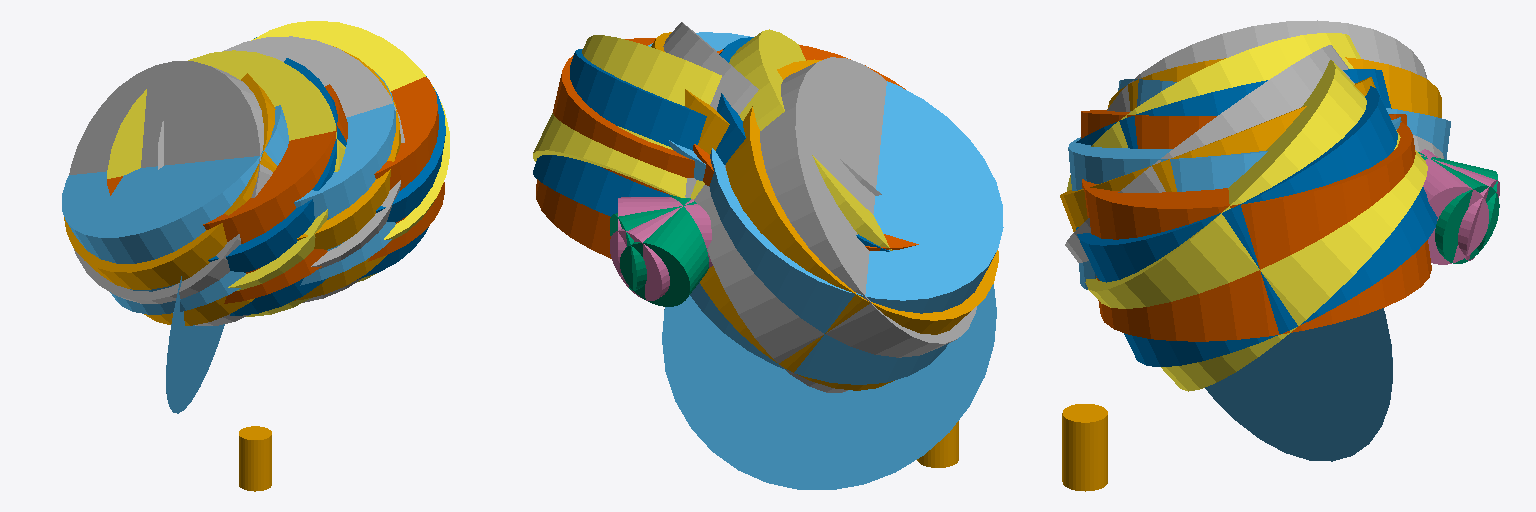
robot.urdf — pepe:
<robot name="pepe">
	<link name="0">
		<visual>
			<geometry>
				<cylinder length="0.35940935990721423" radius="0.10762790799951505"/>
			</geometry>
		</visual>
		<collision>
			<geometry>
				<cylinder length="0.35940935990721423" radius="0.10762790799951505"/>
			</geometry>
		</collision>
		<inertial>
			<mass value="0.013079437091548709"/>
			<inertia ixx="0.03" iyy="0.03" izz="0.03" ixy="0" ixz="0" iyx="0"/>
		</inertial>
	</link>
	<link name="11">
		<visual>
			<geometry>
				<cylinder length="0.00014309724393646306" radius="0.878015169482812"/>
			</geometry>
		</visual>
		<collision>
			<geometry>
				<cylinder length="0.00014309724393646306" radius="0.878015169482812"/>
			</geometry>
		</collision>
		<inertial>
			<mass value="0.000346565382932485"/>
			<inertia ixx="0.03" iyy="0.03" izz="0.03" ixy="0" ixz="0" iyx="0"/>
		</inertial>
	</link>
	<link name="22">
		<visual>
			<geometry>
				<cylinder length="0.6698241132036055" radius="0.20281904790217475"/>
			</geometry>
		</visual>
		<collision>
			<geometry>
				<cylinder length="0.6698241132036055" radius="0.20281904790217475"/>
			</geometry>
		</collision>
		<inertial>
			<mass value="0.08656216894796107"/>
			<inertia ixx="0.03" iyy="0.03" izz="0.03" ixy="0" ixz="0" iyx="0"/>
		</inertial>
	</link>
	<link name="33">
		<visual>
			<geometry>
				<cylinder length="0.6594143880653701" radius="0.7924739066722428"/>
			</geometry>
		</visual>
		<collision>
			<geometry>
				<cylinder length="0.6594143880653701" radius="0.7924739066722428"/>
			</geometry>
		</collision>
		<inertial>
			<mass value="1.3010028094564627"/>
			<inertia ixx="0.03" iyy="0.03" izz="0.03" ixy="0" ixz="0" iyx="0"/>
		</inertial>
	</link>
	<link name="34">
		<visual>
			<geometry>
				<cylinder length="0.6594143880653701" radius="0.7924739066722428"/>
			</geometry>
		</visual>
		<collision>
			<geometry>
				<cylinder length="0.6594143880653701" radius="0.7924739066722428"/>
			</geometry>
		</collision>
		<inertial>
			<mass value="1.3010028094564627"/>
			<inertia ixx="0.03" iyy="0.03" izz="0.03" ixy="0" ixz="0" iyx="0"/>
		</inertial>
	</link>
	<link name="35">
		<visual>
			<geometry>
				<cylinder length="0.6594143880653701" radius="0.7924739066722428"/>
			</geometry>
		</visual>
		<collision>
			<geometry>
				<cylinder length="0.6594143880653701" radius="0.7924739066722428"/>
			</geometry>
		</collision>
		<inertial>
			<mass value="1.3010028094564627"/>
			<inertia ixx="0.03" iyy="0.03" izz="0.03" ixy="0" ixz="0" iyx="0"/>
		</inertial>
	</link>
	<link name="26">
		<visual>
			<geometry>
				<cylinder length="0.6698241132036055" radius="0.20281904790217475"/>
			</geometry>
		</visual>
		<collision>
			<geometry>
				<cylinder length="0.6698241132036055" radius="0.20281904790217475"/>
			</geometry>
		</collision>
		<inertial>
			<mass value="0.08656216894796107"/>
			<inertia ixx="0.03" iyy="0.03" izz="0.03" ixy="0" ixz="0" iyx="0"/>
		</inertial>
	</link>
	<link name="37">
		<visual>
			<geometry>
				<cylinder length="0.6594143880653701" radius="0.7924739066722428"/>
			</geometry>
		</visual>
		<collision>
			<geometry>
				<cylinder length="0.6594143880653701" radius="0.7924739066722428"/>
			</geometry>
		</collision>
		<inertial>
			<mass value="1.3010028094564627"/>
			<inertia ixx="0.03" iyy="0.03" izz="0.03" ixy="0" ixz="0" iyx="0"/>
		</inertial>
	</link>
	<link name="38">
		<visual>
			<geometry>
				<cylinder length="0.6594143880653701" radius="0.7924739066722428"/>
			</geometry>
		</visual>
		<collision>
			<geometry>
				<cylinder length="0.6594143880653701" radius="0.7924739066722428"/>
			</geometry>
		</collision>
		<inertial>
			<mass value="1.3010028094564627"/>
			<inertia ixx="0.03" iyy="0.03" izz="0.03" ixy="0" ixz="0" iyx="0"/>
		</inertial>
	</link>
	<link name="39">
		<visual>
			<geometry>
				<cylinder length="0.6594143880653701" radius="0.7924739066722428"/>
			</geometry>
		</visual>
		<collision>
			<geometry>
				<cylinder length="0.6594143880653701" radius="0.7924739066722428"/>
			</geometry>
		</collision>
		<inertial>
			<mass value="1.3010028094564627"/>
			<inertia ixx="0.03" iyy="0.03" izz="0.03" ixy="0" ixz="0" iyx="0"/>
		</inertial>
	</link>
	<link name="210">
		<visual>
			<geometry>
				<cylinder length="0.6698241132036055" radius="0.20281904790217475"/>
			</geometry>
		</visual>
		<collision>
			<geometry>
				<cylinder length="0.6698241132036055" radius="0.20281904790217475"/>
			</geometry>
		</collision>
		<inertial>
			<mass value="0.08656216894796107"/>
			<inertia ixx="0.03" iyy="0.03" izz="0.03" ixy="0" ixz="0" iyx="0"/>
		</inertial>
	</link>
	<link name="311">
		<visual>
			<geometry>
				<cylinder length="0.6594143880653701" radius="0.7924739066722428"/>
			</geometry>
		</visual>
		<collision>
			<geometry>
				<cylinder length="0.6594143880653701" radius="0.7924739066722428"/>
			</geometry>
		</collision>
		<inertial>
			<mass value="1.3010028094564627"/>
			<inertia ixx="0.03" iyy="0.03" izz="0.03" ixy="0" ixz="0" iyx="0"/>
		</inertial>
	</link>
	<link name="312">
		<visual>
			<geometry>
				<cylinder length="0.6594143880653701" radius="0.7924739066722428"/>
			</geometry>
		</visual>
		<collision>
			<geometry>
				<cylinder length="0.6594143880653701" radius="0.7924739066722428"/>
			</geometry>
		</collision>
		<inertial>
			<mass value="1.3010028094564627"/>
			<inertia ixx="0.03" iyy="0.03" izz="0.03" ixy="0" ixz="0" iyx="0"/>
		</inertial>
	</link>
	<link name="313">
		<visual>
			<geometry>
				<cylinder length="0.6594143880653701" radius="0.7924739066722428"/>
			</geometry>
		</visual>
		<collision>
			<geometry>
				<cylinder length="0.6594143880653701" radius="0.7924739066722428"/>
			</geometry>
		</collision>
		<inertial>
			<mass value="1.3010028094564627"/>
			<inertia ixx="0.03" iyy="0.03" izz="0.03" ixy="0" ixz="0" iyx="0"/>
		</inertial>
	</link>
	<link name="214">
		<visual>
			<geometry>
				<cylinder length="0.6698241132036055" radius="0.20281904790217475"/>
			</geometry>
		</visual>
		<collision>
			<geometry>
				<cylinder length="0.6698241132036055" radius="0.20281904790217475"/>
			</geometry>
		</collision>
		<inertial>
			<mass value="0.08656216894796107"/>
			<inertia ixx="0.03" iyy="0.03" izz="0.03" ixy="0" ixz="0" iyx="0"/>
		</inertial>
	</link>
	<link name="315">
		<visual>
			<geometry>
				<cylinder length="0.6594143880653701" radius="0.7924739066722428"/>
			</geometry>
		</visual>
		<collision>
			<geometry>
				<cylinder length="0.6594143880653701" radius="0.7924739066722428"/>
			</geometry>
		</collision>
		<inertial>
			<mass value="1.3010028094564627"/>
			<inertia ixx="0.03" iyy="0.03" izz="0.03" ixy="0" ixz="0" iyx="0"/>
		</inertial>
	</link>
	<link name="316">
		<visual>
			<geometry>
				<cylinder length="0.6594143880653701" radius="0.7924739066722428"/>
			</geometry>
		</visual>
		<collision>
			<geometry>
				<cylinder length="0.6594143880653701" radius="0.7924739066722428"/>
			</geometry>
		</collision>
		<inertial>
			<mass value="1.3010028094564627"/>
			<inertia ixx="0.03" iyy="0.03" izz="0.03" ixy="0" ixz="0" iyx="0"/>
		</inertial>
	</link>
	<link name="317">
		<visual>
			<geometry>
				<cylinder length="0.6594143880653701" radius="0.7924739066722428"/>
			</geometry>
		</visual>
		<collision>
			<geometry>
				<cylinder length="0.6594143880653701" radius="0.7924739066722428"/>
			</geometry>
		</collision>
		<inertial>
			<mass value="1.3010028094564627"/>
			<inertia ixx="0.03" iyy="0.03" izz="0.03" ixy="0" ixz="0" iyx="0"/>
		</inertial>
	</link>
	<joint name="11_to_0" type="revolute">
		<parent link="0"/>
		<child link="11"/>
		<axis xyz="1 0 0"/>
		<limit effort="1" upper="-3.1415" lower="3.1415" velocity="1"/>
		<origin rpy="0.14649725603420974 4.846653697982699 5.321823417325937" xyz="0.14857603399565733 0.850922854525532 0.8784038689011624"/>
	</joint>
	<joint name="22_to_11" type="revolute">
		<parent link="11"/>
		<child link="22"/>
		<axis xyz="0 0 1"/>
		<limit effort="1" upper="-3.1415" lower="3.1415" velocity="1"/>
		<origin rpy="0.7445599795989941 2.753265867417977 0.13256535444230305" xyz="0.6462597085189629 0.8247703460954684 0.3225897180783439"/>
	</joint>
	<joint name="33_to_22" type="revolute">
		<parent link="22"/>
		<child link="33"/>
		<axis xyz="0 0 1"/>
		<limit effort="1" upper="-3.1415" lower="3.1415" velocity="1"/>
		<origin rpy="5.69284500720614 6.231285609868876 1.6356365506562816" xyz="0.21244740337731205 0.30963795507434566 0.7532611592364375"/>
	</joint>
	<joint name="34_to_22" type="revolute">
		<parent link="22"/>
		<child link="34"/>
		<axis xyz="0 0 1"/>
		<limit effort="1" upper="-3.1415" lower="3.1415" velocity="1"/>
		<origin rpy="8.53926751080921 6.231285609868876 1.6356365506562816" xyz="0.21244740337731205 0.30963795507434566 0.7532611592364375"/>
	</joint>
	<joint name="35_to_22" type="revolute">
		<parent link="22"/>
		<child link="35"/>
		<axis xyz="0 0 1"/>
		<limit effort="1" upper="-3.1415" lower="3.1415" velocity="1"/>
		<origin rpy="11.38569001441228 6.231285609868876 1.6356365506562816" xyz="0.21244740337731205 0.30963795507434566 0.7532611592364375"/>
	</joint>
	<joint name="26_to_11" type="revolute">
		<parent link="11"/>
		<child link="26"/>
		<axis xyz="0 0 1"/>
		<limit effort="1" upper="-3.1415" lower="3.1415" velocity="1"/>
		<origin rpy="1.1168399693984912 2.753265867417977 0.13256535444230305" xyz="0.6462597085189629 0.8247703460954684 0.3225897180783439"/>
	</joint>
	<joint name="37_to_26" type="revolute">
		<parent link="26"/>
		<child link="37"/>
		<axis xyz="0 0 1"/>
		<limit effort="1" upper="-3.1415" lower="3.1415" velocity="1"/>
		<origin rpy="5.69284500720614 6.231285609868876 1.6356365506562816" xyz="0.21244740337731205 0.30963795507434566 0.7532611592364375"/>
	</joint>
	<joint name="38_to_26" type="revolute">
		<parent link="26"/>
		<child link="38"/>
		<axis xyz="0 0 1"/>
		<limit effort="1" upper="-3.1415" lower="3.1415" velocity="1"/>
		<origin rpy="8.53926751080921 6.231285609868876 1.6356365506562816" xyz="0.21244740337731205 0.30963795507434566 0.7532611592364375"/>
	</joint>
	<joint name="39_to_26" type="revolute">
		<parent link="26"/>
		<child link="39"/>
		<axis xyz="0 0 1"/>
		<limit effort="1" upper="-3.1415" lower="3.1415" velocity="1"/>
		<origin rpy="11.38569001441228 6.231285609868876 1.6356365506562816" xyz="0.21244740337731205 0.30963795507434566 0.7532611592364375"/>
	</joint>
	<joint name="210_to_11" type="revolute">
		<parent link="11"/>
		<child link="210"/>
		<axis xyz="0 0 1"/>
		<limit effort="1" upper="-3.1415" lower="3.1415" velocity="1"/>
		<origin rpy="1.4891199591979882 2.753265867417977 0.13256535444230305" xyz="0.6462597085189629 0.8247703460954684 0.3225897180783439"/>
	</joint>
	<joint name="311_to_210" type="revolute">
		<parent link="210"/>
		<child link="311"/>
		<axis xyz="0 0 1"/>
		<limit effort="1" upper="-3.1415" lower="3.1415" velocity="1"/>
		<origin rpy="5.69284500720614 6.231285609868876 1.6356365506562816" xyz="0.21244740337731205 0.30963795507434566 0.7532611592364375"/>
	</joint>
	<joint name="312_to_210" type="revolute">
		<parent link="210"/>
		<child link="312"/>
		<axis xyz="0 0 1"/>
		<limit effort="1" upper="-3.1415" lower="3.1415" velocity="1"/>
		<origin rpy="8.53926751080921 6.231285609868876 1.6356365506562816" xyz="0.21244740337731205 0.30963795507434566 0.7532611592364375"/>
	</joint>
	<joint name="313_to_210" type="revolute">
		<parent link="210"/>
		<child link="313"/>
		<axis xyz="0 0 1"/>
		<limit effort="1" upper="-3.1415" lower="3.1415" velocity="1"/>
		<origin rpy="11.38569001441228 6.231285609868876 1.6356365506562816" xyz="0.21244740337731205 0.30963795507434566 0.7532611592364375"/>
	</joint>
	<joint name="214_to_11" type="revolute">
		<parent link="11"/>
		<child link="214"/>
		<axis xyz="0 0 1"/>
		<limit effort="1" upper="-3.1415" lower="3.1415" velocity="1"/>
		<origin rpy="1.8613999489974853 2.753265867417977 0.13256535444230305" xyz="0.6462597085189629 0.8247703460954684 0.3225897180783439"/>
	</joint>
	<joint name="315_to_214" type="revolute">
		<parent link="214"/>
		<child link="315"/>
		<axis xyz="0 0 1"/>
		<limit effort="1" upper="-3.1415" lower="3.1415" velocity="1"/>
		<origin rpy="5.69284500720614 6.231285609868876 1.6356365506562816" xyz="0.21244740337731205 0.30963795507434566 0.7532611592364375"/>
	</joint>
	<joint name="316_to_214" type="revolute">
		<parent link="214"/>
		<child link="316"/>
		<axis xyz="0 0 1"/>
		<limit effort="1" upper="-3.1415" lower="3.1415" velocity="1"/>
		<origin rpy="8.53926751080921 6.231285609868876 1.6356365506562816" xyz="0.21244740337731205 0.30963795507434566 0.7532611592364375"/>
	</joint>
	<joint name="317_to_214" type="revolute">
		<parent link="214"/>
		<child link="317"/>
		<axis xyz="0 0 1"/>
		<limit effort="1" upper="-3.1415" lower="3.1415" velocity="1"/>
		<origin rpy="11.38569001441228 6.231285609868876 1.6356365506562816" xyz="0.21244740337731205 0.30963795507434566 0.7532611592364375"/>
	</joint>
</robot>

--- What the picture shows (computed from the rendered views, not written in the file) ---
3 views of the same robot in one strip: view 1: azimuth 30°, elevation 25°; view 2: azimuth 150°, elevation 25°; view 3: azimuth 270°, elevation 25° (orthographic).
Model pepe with 18 links and 17 joints (17 revolute), rooted at 0, posed all joints at 0.
Visible links, largest first — view 1: 315, 317, 311, 313, 37, 316, 39, 33, 35, 312, 11, 38 (+2 smaller); view 2: 317, 11, 315, 316, 34, 33, 35, 311, 22, 37, 26, 214 (+6 smaller); view 3: 33, 35, 11, 34, 37, 315, 311, 39, 38, 0, 316, 312 (+6 smaller).
Boxes of the visible links, left/top/right/bottom form: 315: left=69, top=61, right=272, bottom=325; 317: left=62, top=105, right=288, bottom=314; 311: left=107, top=50, right=345, bottom=316; 313: left=107, top=84, right=347, bottom=303; 37: left=158, top=36, right=404, bottom=302; 316: left=64, top=73, right=276, bottom=325; 39: left=294, top=72, right=395, bottom=285; 33: left=251, top=21, right=449, bottom=282; 35: left=368, top=77, right=444, bottom=261; 312: left=208, top=58, right=346, bottom=315; 11: left=166, top=276, right=224, bottom=413; 38: left=294, top=46, right=400, bottom=300; 317: left=690, top=81, right=1003, bottom=384; 11: left=662, top=284, right=996, bottom=489; 315: left=694, top=57, right=976, bottom=392; 316: left=700, top=59, right=998, bottom=390; 34: left=533, top=49, right=706, bottom=216; 33: left=533, top=35, right=721, bottom=197; 35: left=536, top=38, right=694, bottom=258; 311: left=690, top=29, right=892, bottom=250; 22: left=620, top=195, right=708, bottom=306; 37: left=663, top=22, right=881, bottom=197; 26: left=610, top=199, right=693, bottom=300; 214: left=618, top=197, right=712, bottom=276; 33: left=1085, top=60, right=1427, bottom=391; 35: left=1082, top=122, right=1431, bottom=341; 11: left=1205, top=308, right=1392, bottom=461; 34: left=1076, top=86, right=1437, bottom=366; 37: left=1065, top=45, right=1354, bottom=262; 315: left=1107, top=20, right=1443, bottom=158; 311: left=1067, top=33, right=1360, bottom=190; 39: left=1068, top=117, right=1401, bottom=289; 38: left=1060, top=77, right=1375, bottom=231; 0: left=1062, top=404, right=1107, bottom=491; 316: left=1107, top=57, right=1441, bottom=117; 312: left=1076, top=69, right=1391, bottom=148.
Bounding box of the posed robot: 2.54 × 2.08 × 2.57 m (x, y, z).
Geometry: primitives only (box / cylinder / sphere), no mesh files.
